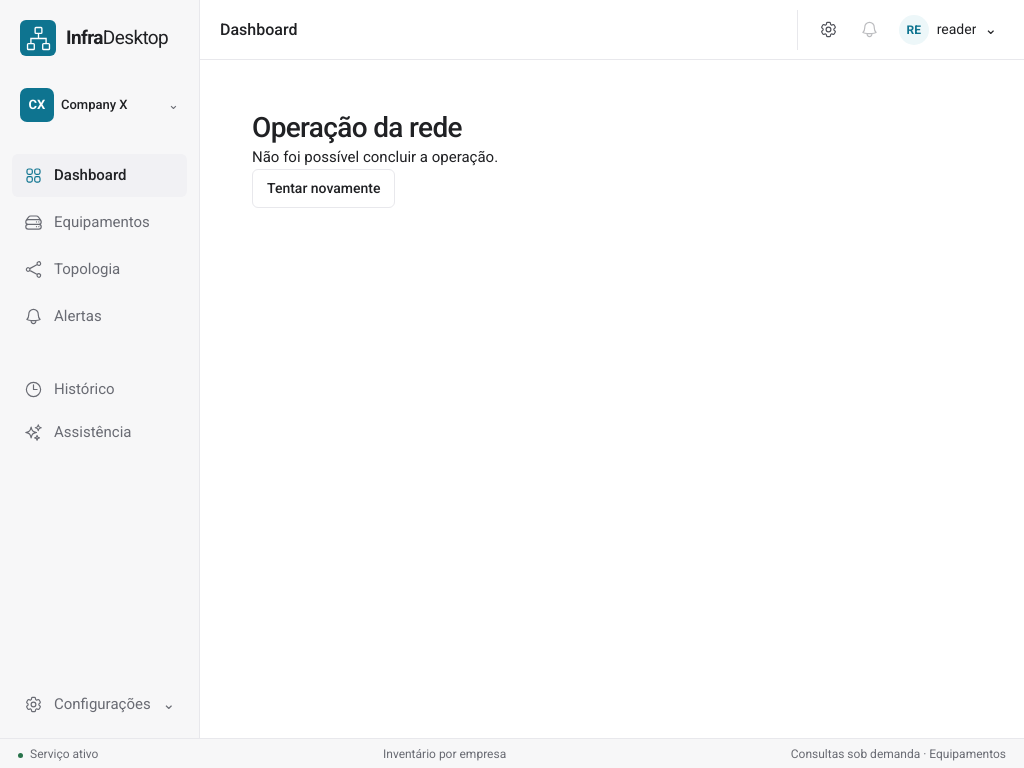
Test: dashboard read error offers retry without claiming an empty inventory
Expected: the message "Não foi possível concluir a operação." is shown, x1=252 y1=148 x2=498 y2=166
Click the button "Tentar novamente" at (324, 188), box x1=252 y1=169 x2=396 y2=208
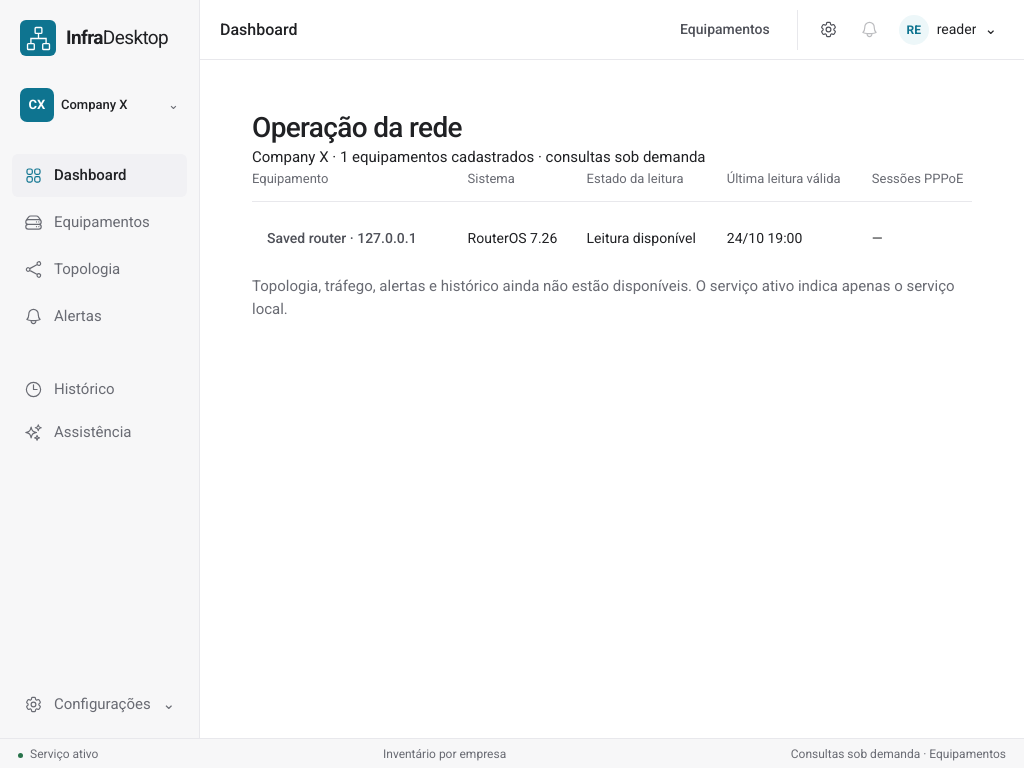
Expected: the button "Saved router · 127.0.0.1" is shown, x1=252 y1=219 x2=432 y2=258
